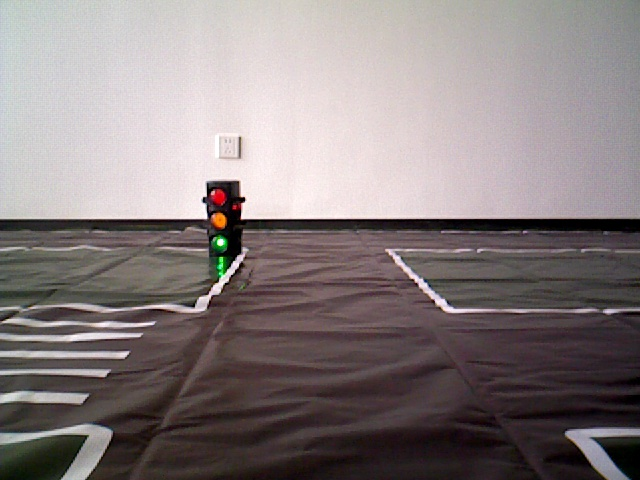green: (207, 181, 238, 251)
